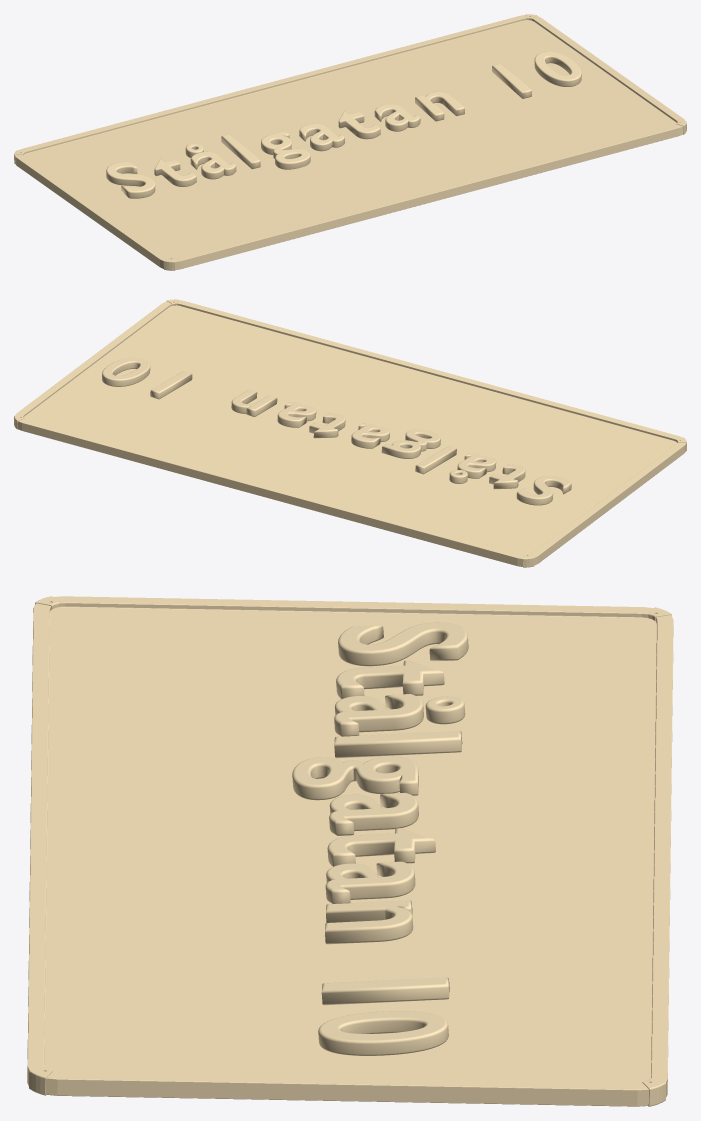
The picture shows the model from 3 angles, top to bottom: view 1: azimuth 30°, elevation 25°; view 2: azimuth 150°, elevation 25°; view 3: azimuth 270°, elevation 25°; orthographic projection. The views are drawn at different scales.
Parts seen in each view (by area): view 1: Text; view 2: Text; view 3: Text.
Part boxes in pixels (x1,y1,x2,y2): Text: (14,14,686,270); Text: (14,299,686,567); Text: (27,596,673,1106).
Bounding box in the file's own units: 132 × 8.12 × 70.31.
